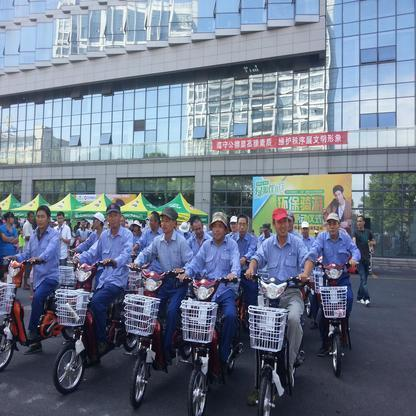target: (54, 202, 133, 393), (245, 209, 313, 414), (124, 206, 186, 406), (180, 212, 241, 413), (2, 206, 62, 365), (315, 212, 362, 374)
